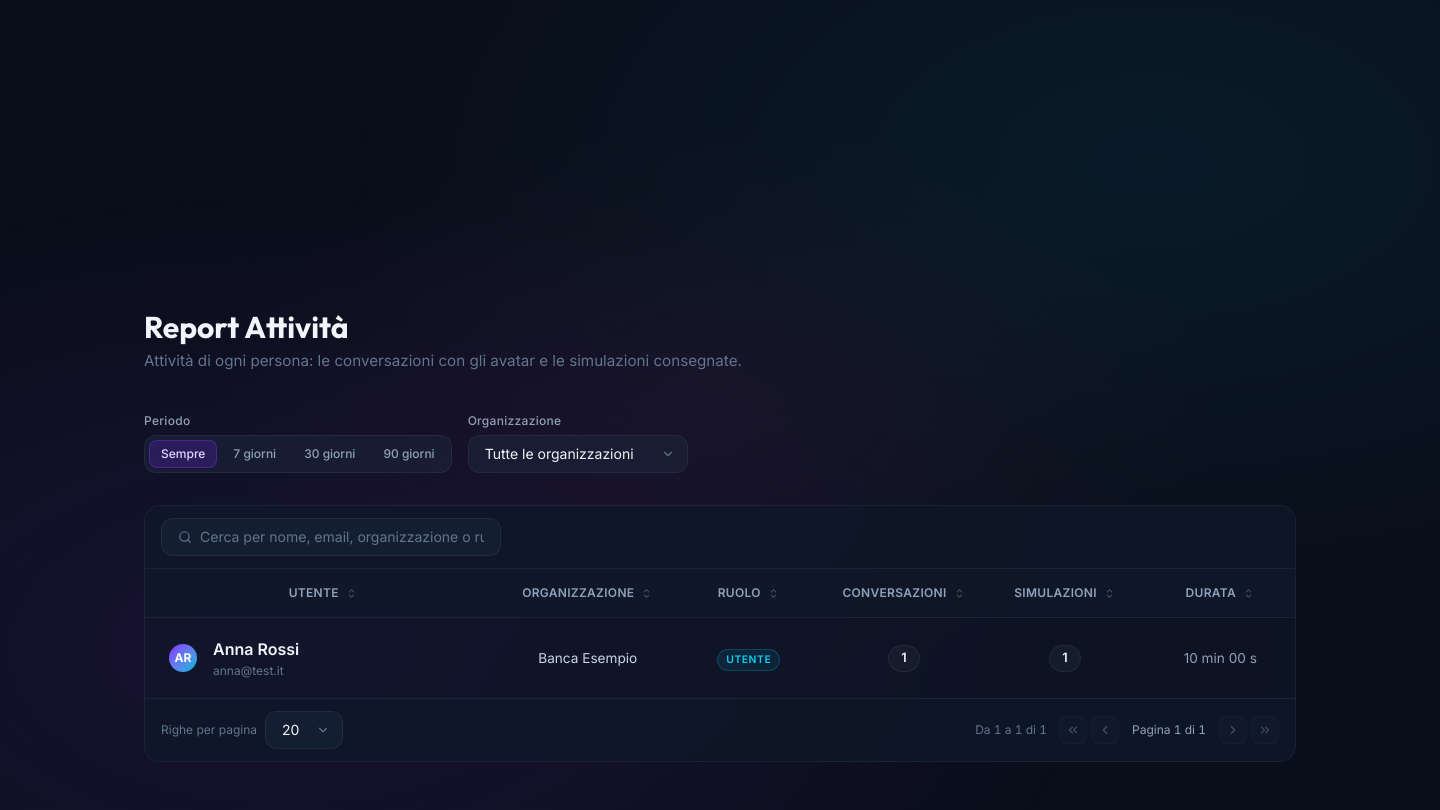
la riga di una persona › distingue una tabella vuota da una ricerca senza esiti
(page scrolled)
Type "nessuno" into the field with placeholder "Cerca per nome, email, organizzazione o ruolo...".
click(342, 537); type("nessuno")  # box [200,519,484,555]
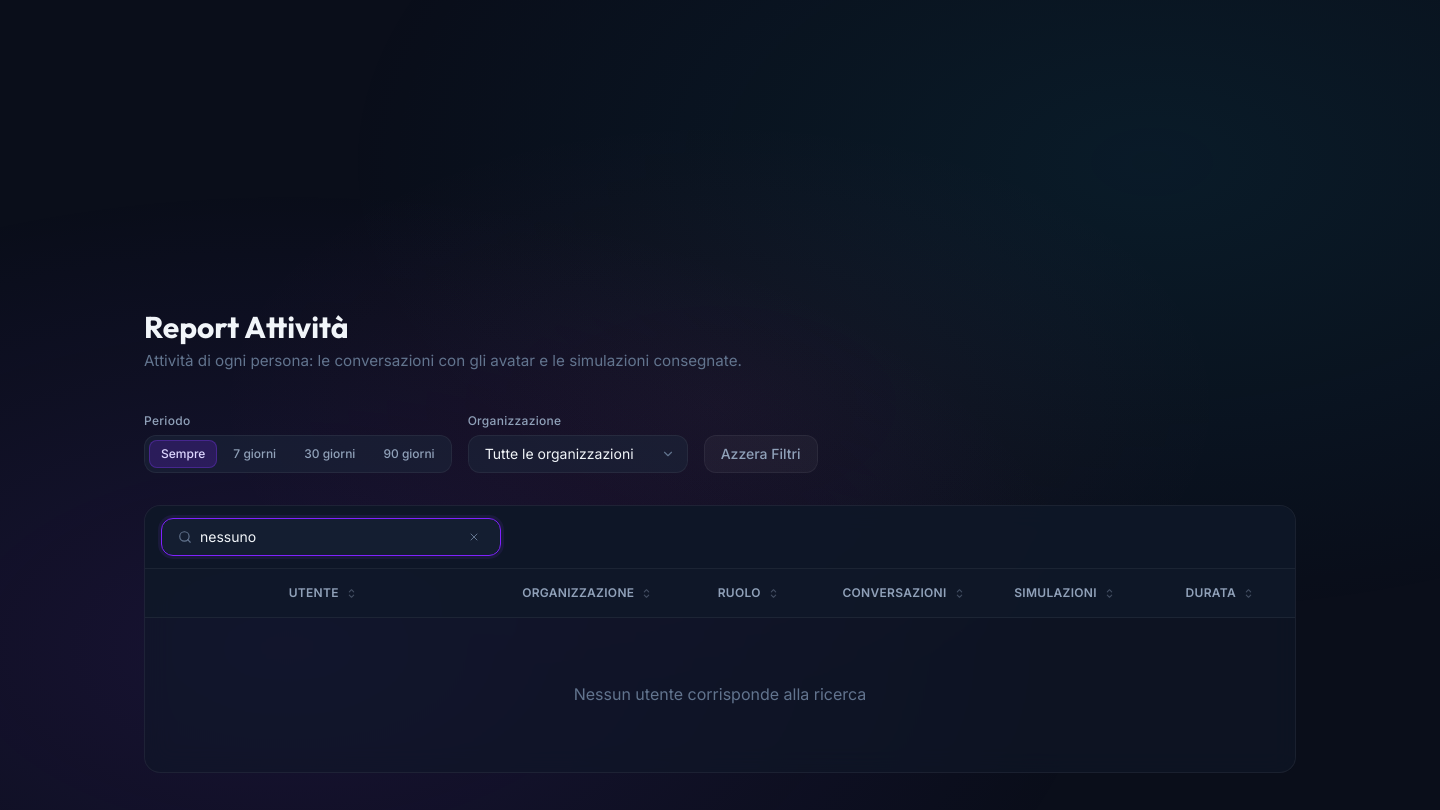
Expected: the text "Nessun utente corrisponde alla ricerca" is shown, [145,618,1295,772]
